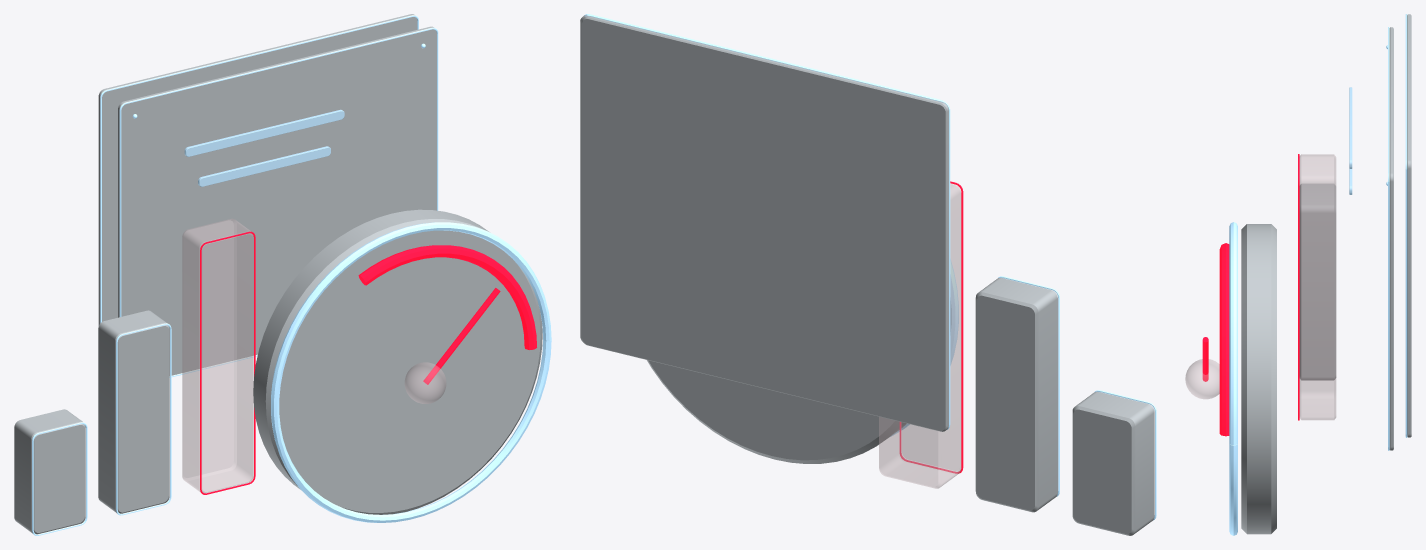
File: 10-kpi.glb
3 views of the same model, side by side, from view 1: azimuth 30°, elevation 25°; view 2: azimuth 150°, elevation 25°; view 3: azimuth 270°, elevation 25° (orthographic). The views are drawn at different scales.
Parts seen in each view (by area): view 1: BC thin clear technical glass, BC subtle ruby technical glass, BC cool glass edge, BC ruby signal edge, BC etched pale glass; view 2: BC thin clear technical glass, BC subtle ruby technical glass, BC cool glass edge, BC ruby signal edge; view 3: BC thin clear technical glass, BC subtle ruby technical glass, BC cool glass edge, BC ruby signal edge, BC etched pale glass.
Boxes of the visible parts, x1,y1,x2,y2 form: BC thin clear technical glass: [14, 14, 542, 534]; BC subtle ruby technical glass: [182, 218, 446, 493]; BC cool glass edge: [32, 15, 551, 535]; BC ruby signal edge: [200, 231, 536, 494]; BC etched pale glass: [184, 109, 344, 186]; BC thin clear technical glass: [580, 15, 1154, 535]; BC subtle ruby technical glass: [879, 183, 961, 488]; BC cool glass edge: [584, 14, 1156, 520]; BC ruby signal edge: [899, 181, 963, 473]; BC thin clear technical glass: [1241, 14, 1411, 534]; BC subtle ruby technical glass: [1185, 154, 1336, 420]; BC cool glass edge: [1229, 14, 1407, 535]; BC ruby signal edge: [1202, 154, 1299, 436]; BC etched pale glass: [1349, 87, 1352, 194].
Size of the model in its own units: 2.14 by 1.75 by 0.889.
